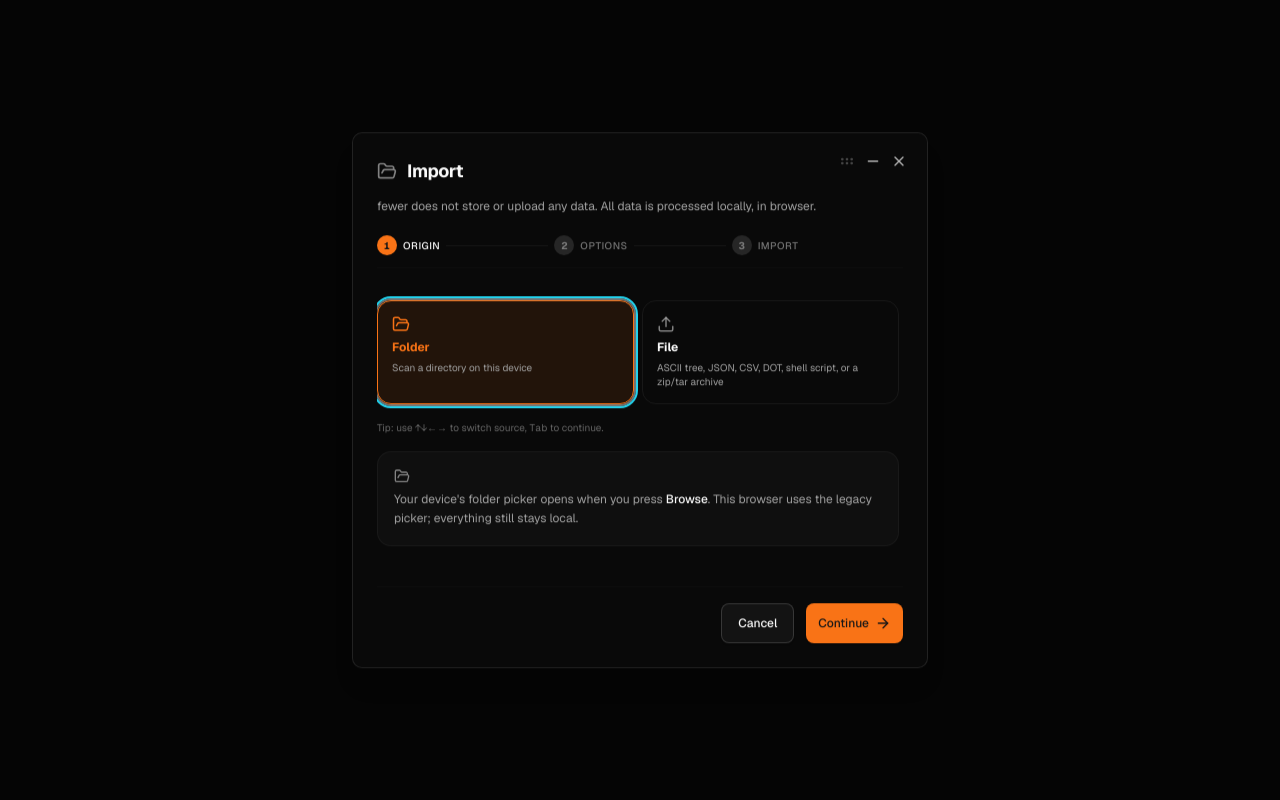
Test case: ImportFlowDialog closing mid-import › late progress from an orphaned run never reappears
What coordinates should you click on to do the following:
click the button "Continue"
I would click on:
 (855, 623)
Its box is [806, 603, 903, 643].
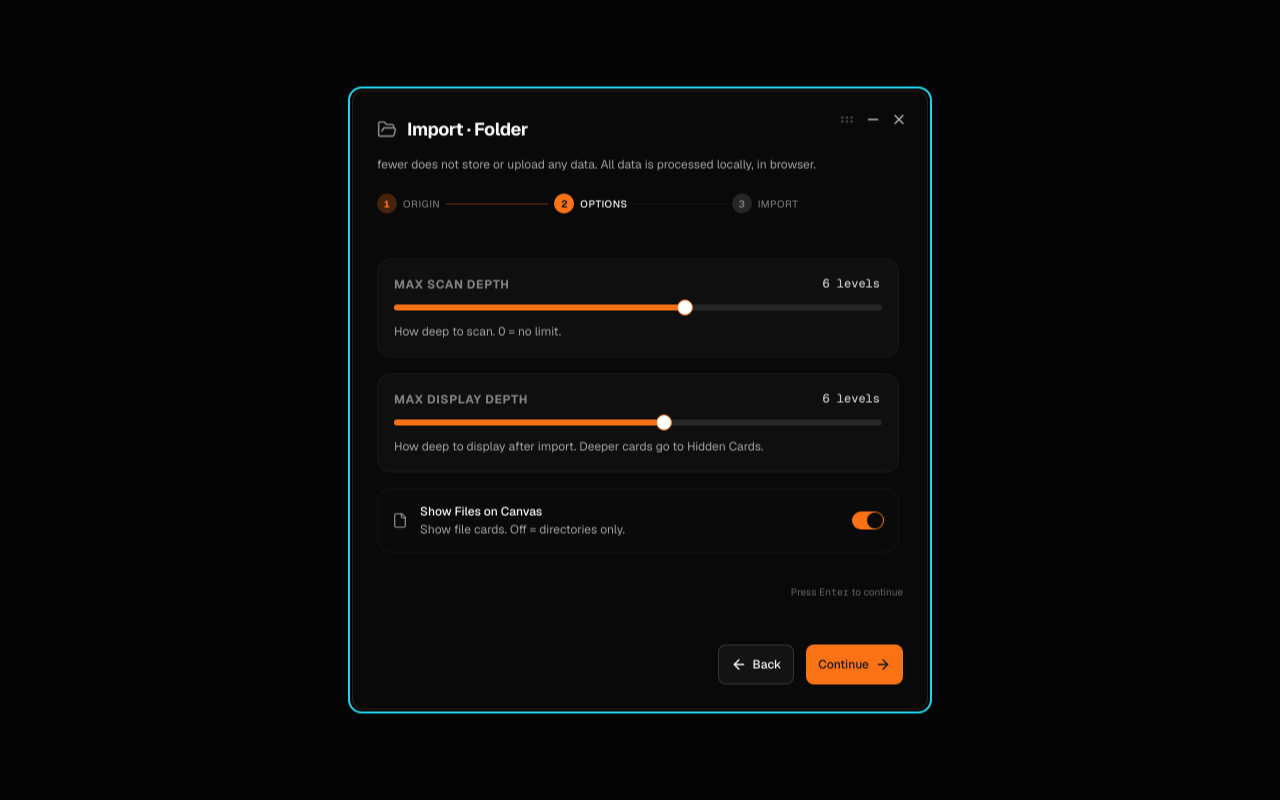
What coordinates should you click on to do the following:
click the button "Continue"
I would click on:
 (855, 664)
Its box is [806, 644, 903, 684].
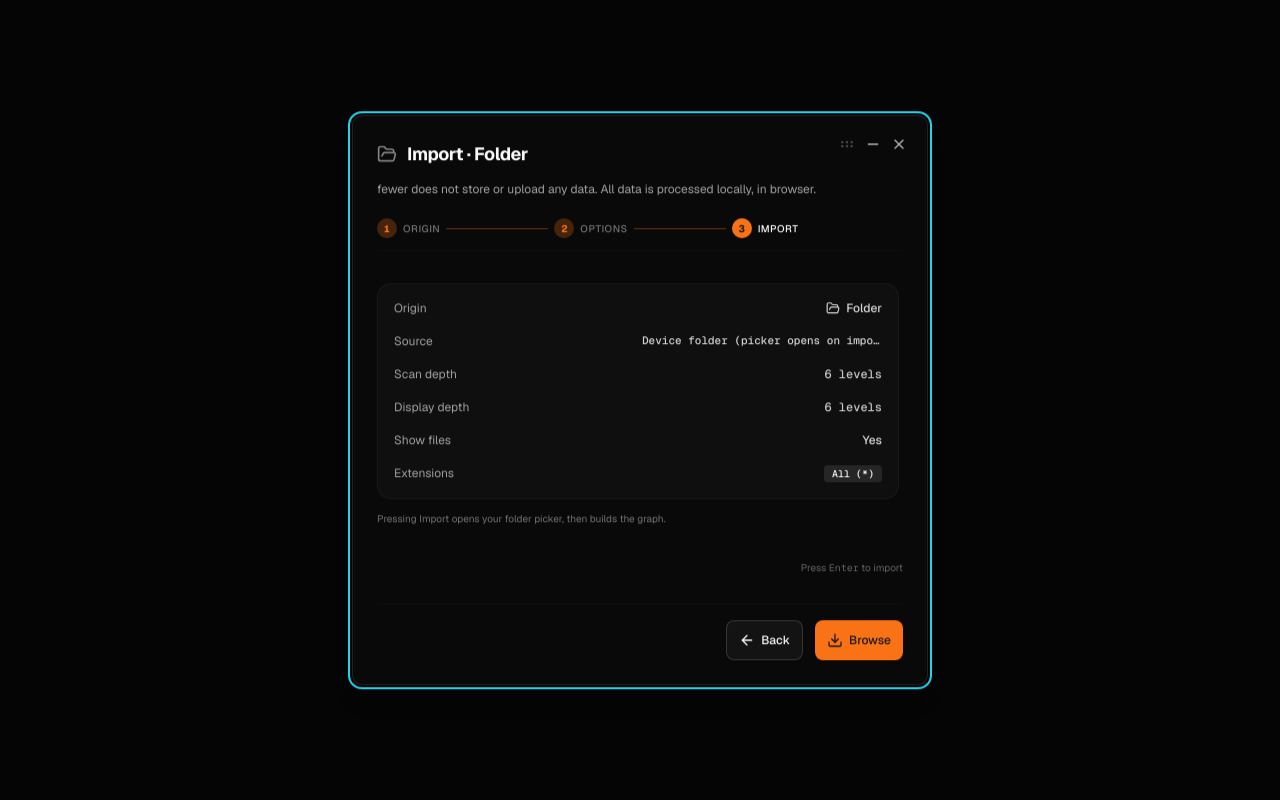
What coordinates should you click on to do the following:
click the button "Browse"
I would click on:
 (859, 640)
Its box is [815, 620, 903, 660].
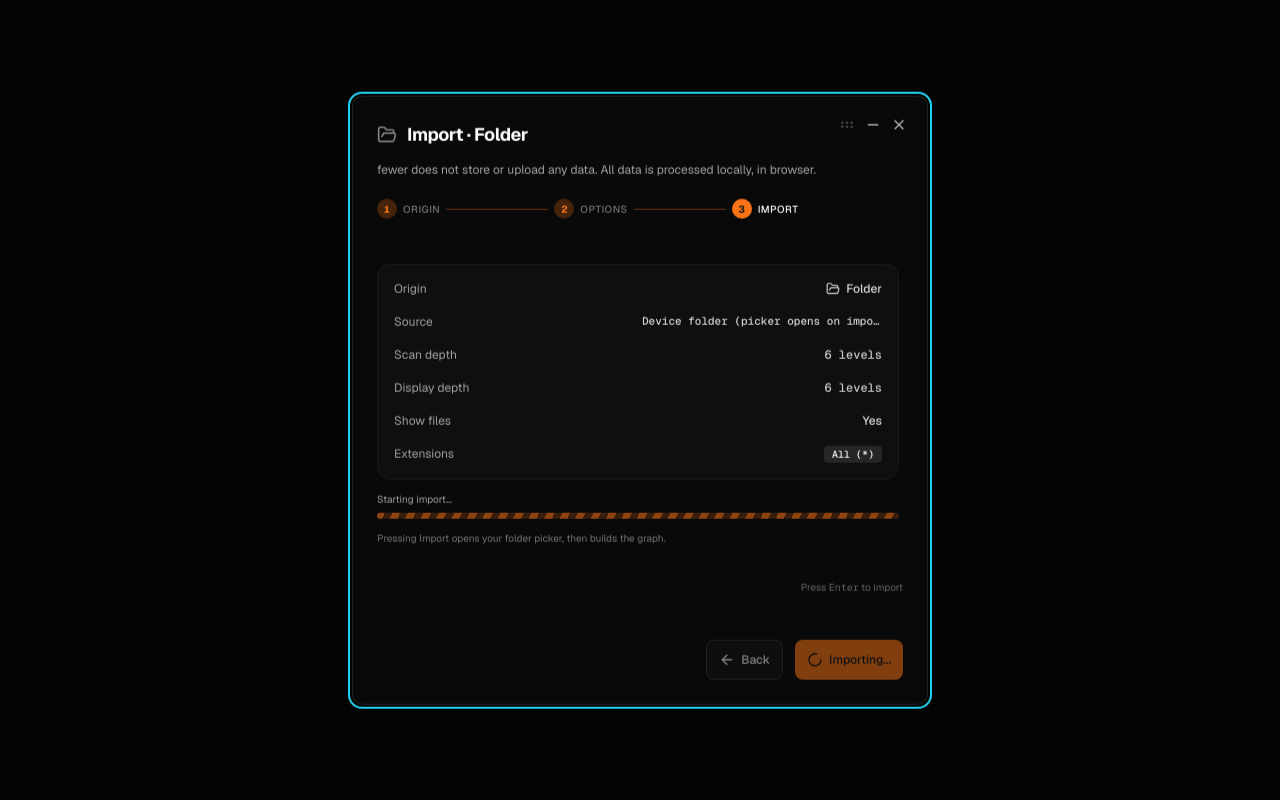
Result: the progress indicator is shown at [377, 513, 899, 519]
What coordinates should you click on to do the following:
click the button named "close"
I would click on:
 (899, 125)
Its box is [887, 113, 911, 137].
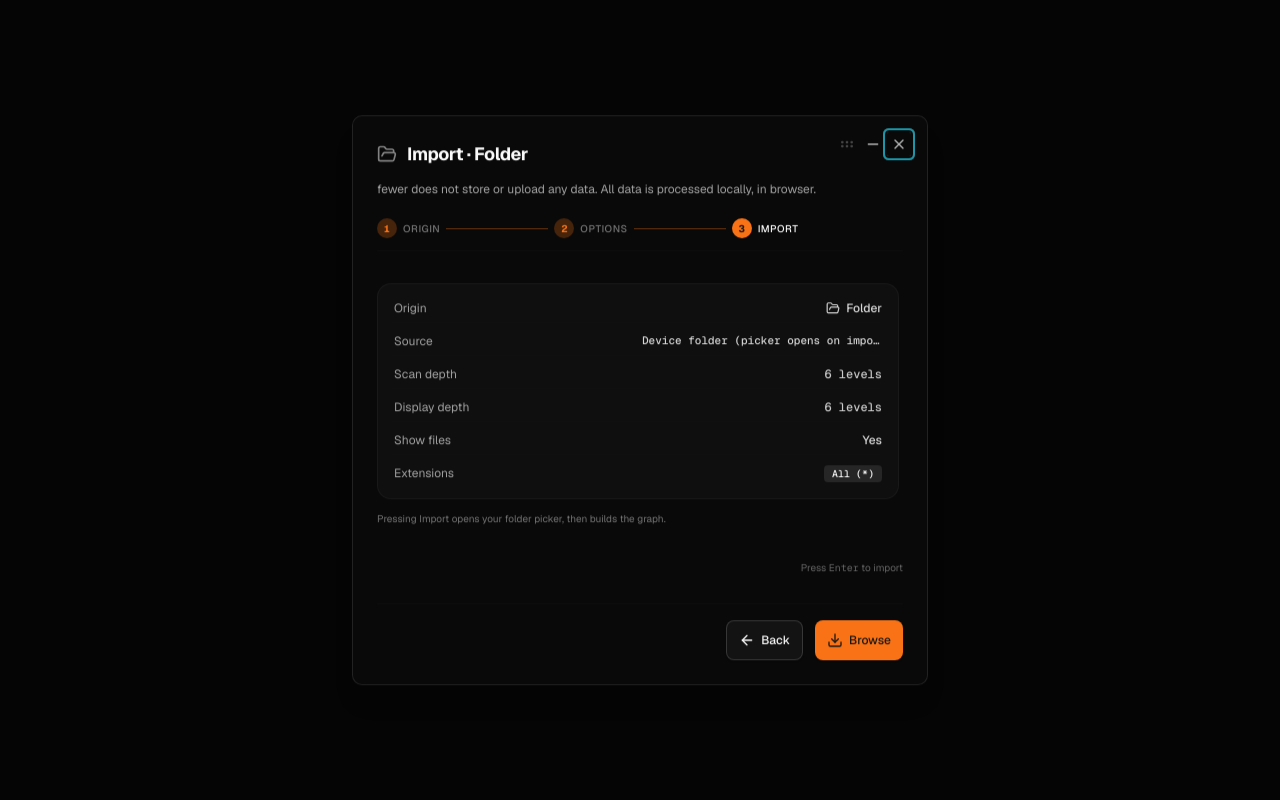
Result: the progress indicator is gone
